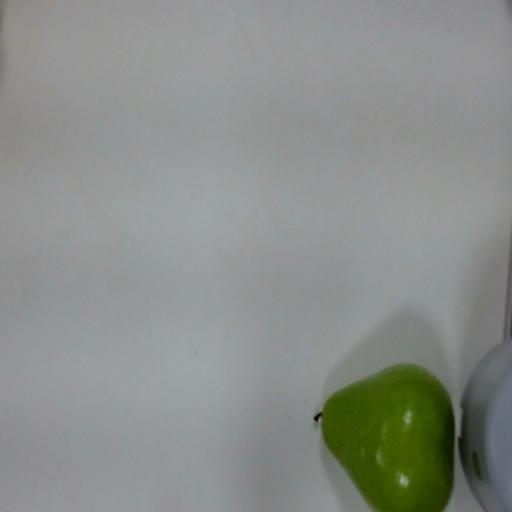Unripe: (306, 351, 462, 512)
